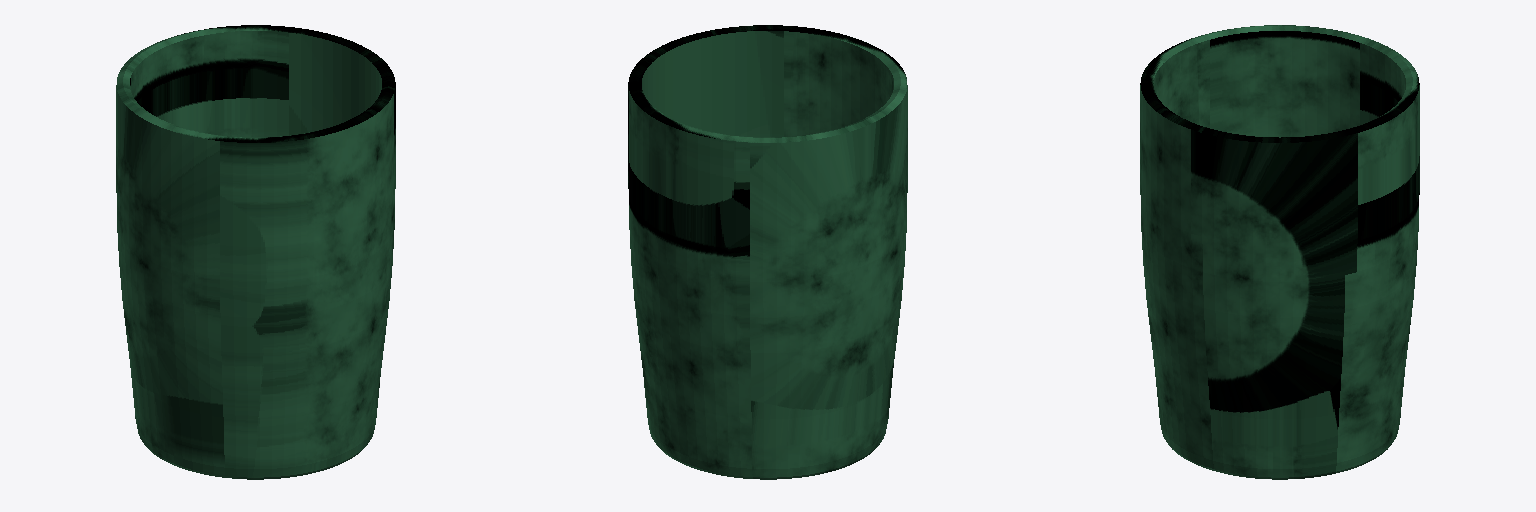
3 renders of one model, left to right at view 1: azimuth 30°, elevation 25°; view 2: azimuth 150°, elevation 25°; view 3: azimuth 270°, elevation 25°, orthographic.
Visible parts, largest first — view 1: Cylinder.024; view 2: Cylinder.024; view 3: Cylinder.024.
Boxes of the visible parts, box(x1,y1,x2,y2) form: Cylinder.024: box(116, 25, 395, 479); Cylinder.024: box(628, 25, 907, 479); Cylinder.024: box(1140, 25, 1419, 479).
Bounding box in the file's own units: 0.0891 × 0.1227 × 0.0891.
1 materials, 1 textured.